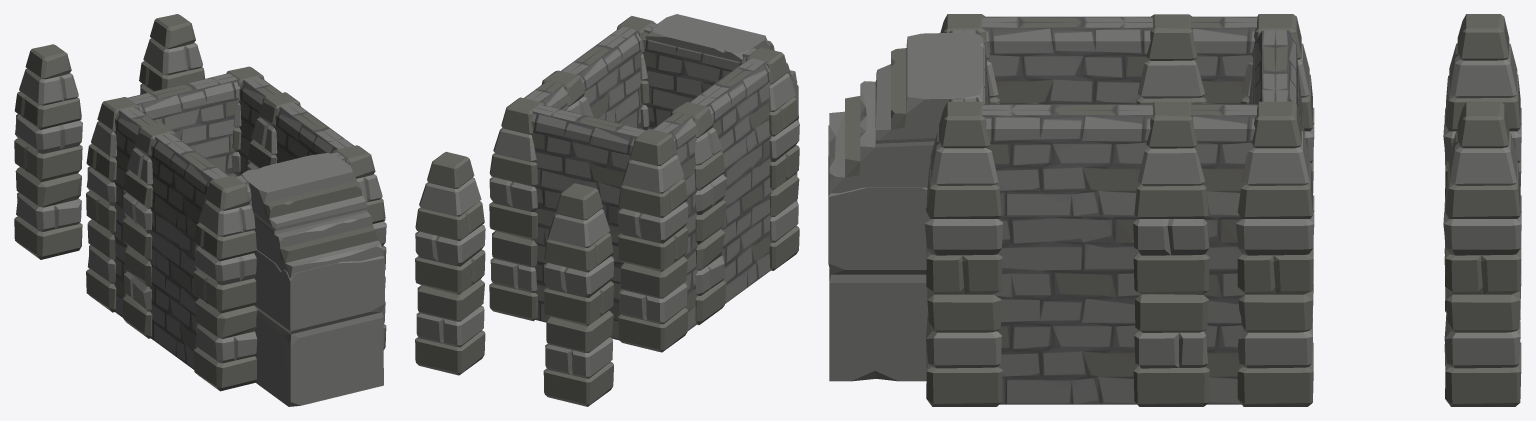
Rendered from SM_Bld_Preset_House_Windmill_01_Base_Optimized.glb.
3 views of the same model, side by side, from view 1: azimuth 30°, elevation 25°; view 2: azimuth 150°, elevation 25°; view 3: azimuth 270°, elevation 25° (orthographic). The views are drawn at different scales.
Parts seen in each view (by area): view 1: SM_Bld_Preset_House_Windmill_01_Base_Optimized; view 2: SM_Bld_Preset_House_Windmill_01_Base_Optimized; view 3: SM_Bld_Preset_House_Windmill_01_Base_Optimized.
Part boxes in pixels (<box>): SM_Bld_Preset_House_Windmill_01_Base_Optimized: <box>14,14,386,406</box>; SM_Bld_Preset_House_Windmill_01_Base_Optimized: <box>415,14,799,406</box>; SM_Bld_Preset_House_Windmill_01_Base_Optimized: <box>828,14,1521,406</box>.
Size of the model in its own units: 3.44 by 3.78 by 8.36.
1 material, 1 textured.
